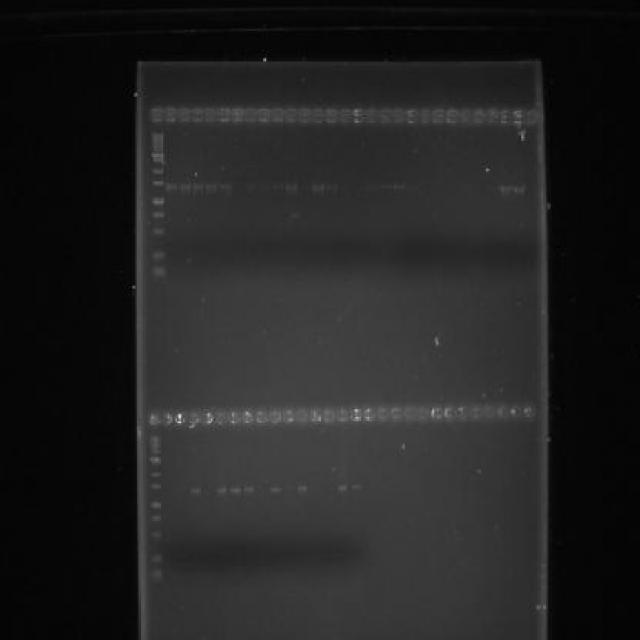B: (498, 180, 512, 196), (391, 179, 407, 192), (286, 180, 300, 194), (312, 180, 326, 194), (514, 183, 528, 197), (218, 178, 232, 191), (272, 179, 286, 192), (164, 181, 178, 194), (205, 180, 218, 193), (179, 181, 192, 194), (336, 481, 349, 494), (326, 180, 340, 192), (192, 180, 205, 192), (349, 480, 362, 491), (215, 486, 228, 497), (228, 484, 241, 494), (242, 484, 255, 493), (296, 485, 309, 493), (188, 486, 201, 494), (270, 484, 281, 493)
L: (143, 402, 542, 432), (146, 102, 540, 130)
M: (145, 432, 167, 596), (148, 130, 168, 287)
P: (150, 265, 167, 278), (149, 568, 162, 582), (152, 249, 166, 260), (152, 196, 166, 207), (152, 227, 165, 238), (151, 178, 164, 187), (151, 167, 164, 176), (148, 435, 161, 443), (151, 210, 164, 218), (151, 150, 164, 158), (152, 554, 162, 564), (150, 514, 161, 522), (149, 457, 160, 465), (150, 501, 162, 508), (152, 158, 166, 164), (150, 131, 164, 137), (150, 532, 162, 538), (150, 483, 161, 489), (150, 472, 161, 478), (149, 448, 160, 454), (151, 144, 164, 148), (149, 444, 160, 448), (151, 141, 164, 144), (151, 137, 164, 140), (152, 148, 165, 150)
Pc: (512, 108, 526, 128), (148, 107, 164, 124), (523, 403, 537, 422), (258, 106, 272, 125), (486, 106, 500, 125), (459, 106, 473, 125), (456, 404, 470, 422), (146, 410, 160, 427), (322, 406, 336, 423), (190, 106, 204, 123), (204, 106, 218, 123), (217, 106, 231, 123), (230, 106, 244, 123), (244, 107, 258, 124), (270, 107, 284, 124), (352, 107, 366, 124), (338, 107, 352, 124), (298, 107, 312, 124), (284, 107, 298, 124), (164, 105, 176, 124), (214, 410, 228, 426), (296, 408, 310, 424), (469, 404, 483, 420), (417, 406, 431, 422), (403, 404, 417, 420), (472, 108, 486, 124), (446, 108, 460, 124), (432, 108, 446, 124), (406, 108, 420, 124), (392, 108, 406, 124), (378, 108, 392, 124), (324, 108, 338, 124), (311, 107, 324, 124), (500, 108, 512, 126), (483, 404, 497, 419), (160, 410, 173, 426), (509, 404, 522, 420), (177, 106, 190, 122), (366, 108, 379, 124), (186, 410, 200, 424), (254, 410, 268, 424), (442, 406, 456, 420), (389, 406, 403, 420), (348, 407, 362, 421), (336, 407, 349, 422), (174, 410, 186, 426), (420, 108, 432, 124), (526, 108, 537, 125), (200, 410, 213, 424), (240, 410, 253, 424), (268, 409, 281, 423), (282, 408, 295, 422), (496, 406, 509, 420), (431, 406, 444, 420), (375, 406, 388, 420), (362, 406, 375, 420), (228, 410, 240, 424), (309, 409, 320, 422)
